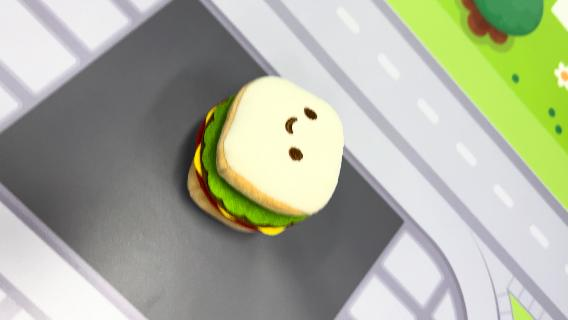sandwich: (185, 72, 347, 238)
